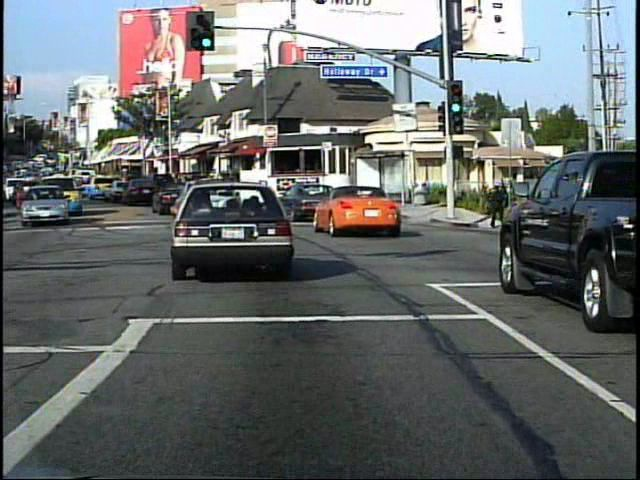person: (570, 186, 593, 247), (487, 182, 508, 230)
